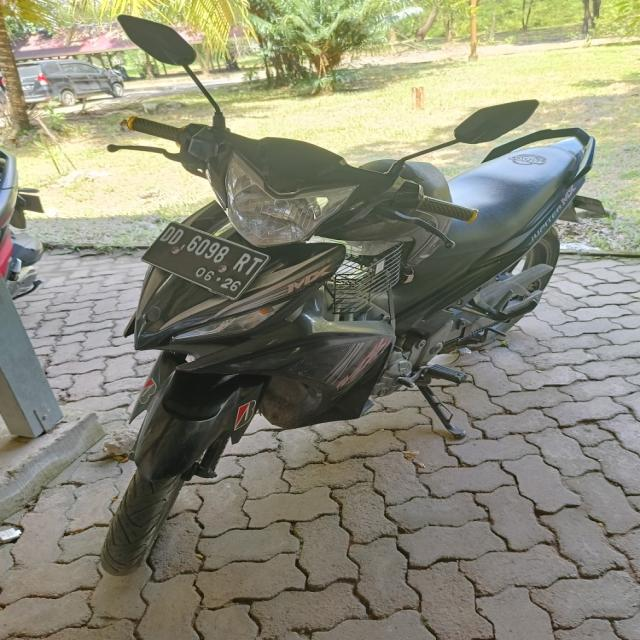plates: (147, 218, 267, 299)
